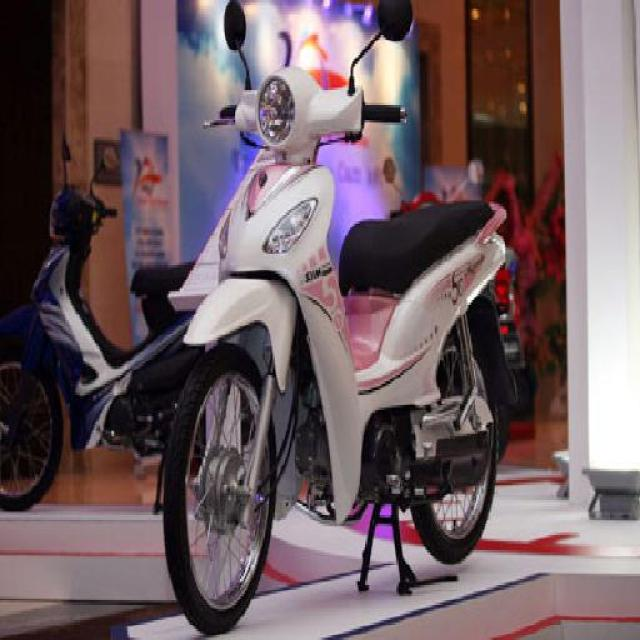All: (156, 64, 510, 640)
Head: (209, 77, 412, 155)
Tail: (437, 188, 507, 274)
